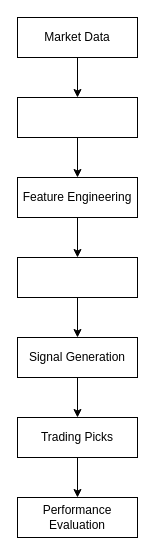
The diagram is 155 pixels wide and 555 high, and some of its shapes have lost their labels. The shapes that lost their labels are listed below. From the top down, each one's box as (x1, y1, x2, y2) in pixels, then its label:
(16, 96, 138, 138): Data Processing
(16, 256, 138, 298): ML Model Pipeline
